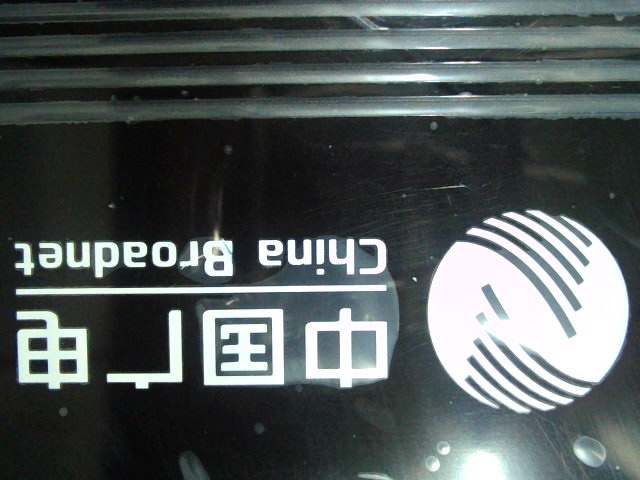AW_ChinaBroadNet: (10, 207, 637, 421)
